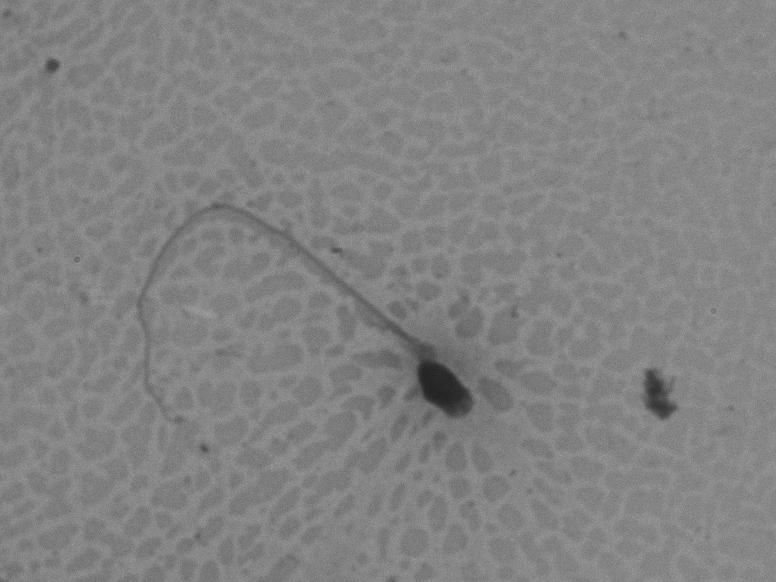Abnormal: (101, 175, 538, 474)
